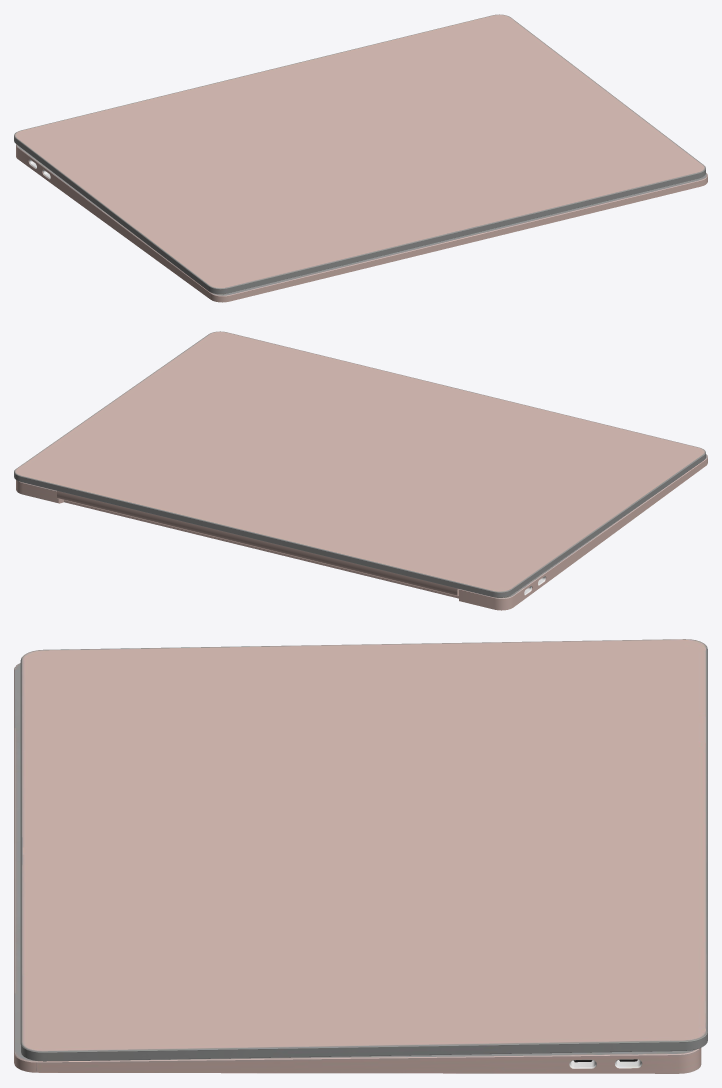
Rendered from laptop.glb.
3 views of the same model, one above another, from view 1: azimuth 30°, elevation 25°; view 2: azimuth 150°, elevation 25°; view 3: azimuth 270°, elevation 25° (orthographic). The views are drawn at different scales.
Parts seen in each view (by area): view 1: laptop14_screen.003, laptop14_body.003; view 2: laptop14_screen.003, laptop14_body.003; view 3: laptop14_screen.003, laptop14_body.003.
Boxes of the visible parts, x1,y1,x2,y2 form: laptop14_screen.003: (14, 14, 705, 294); laptop14_body.003: (16, 144, 707, 302); laptop14_screen.003: (14, 331, 705, 597); laptop14_body.003: (16, 454, 707, 610); laptop14_screen.003: (20, 639, 707, 1061); laptop14_body.003: (14, 663, 701, 1073).
Size of the model in its own units: 1.47 by 0.0862 by 1.07.
2 materials, 2 textured.
